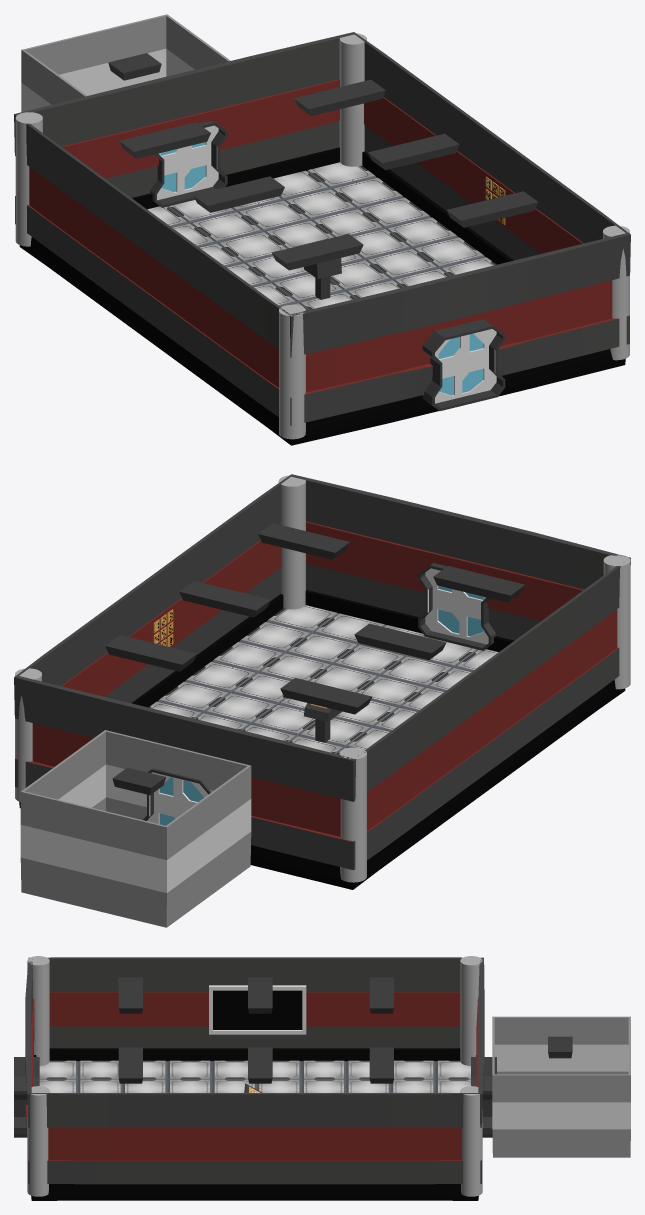
Rendered from Segap 01 30 Puzzle 6.fbx.
The picture shows the model from 3 angles, top to bottom: view 1: azimuth 30°, elevation 25°; view 2: azimuth 150°, elevation 25°; view 3: azimuth 270°, elevation 25°; orthographic projection. The views are drawn at different scales.
Parts seen in each view (by area): view 1: Walls.016, Walls.015, Plane.064, Cylinder.067, Cube.203, Cube.206, Cube.199, Cube.198, Cube.194, Cube.195, Cube.197, Cube.196 (+6 smaller); view 2: Walls.016, Plane.064, Walls.015, Cylinder.067, Cube.199, Cube.197, Cube.198, Cube.194, Cube.196, Cube.195, Cube.206, Cube.203 (+5 smaller); view 3: Walls.016, Plane.064, Walls.015, Cylinder.067, Plane.066, Cube.203, Cube.200, Cube.194, Cube.195, Cube.196, Cube.197, Cube.198 (+2 smaller).
Boxes of the visible parts, bbox=[...] form: Walls.016: bbox=[14, 32, 630, 445]; Walls.015: bbox=[147, 162, 496, 310]; Plane.064: bbox=[21, 14, 230, 112]; Cylinder.067: bbox=[15, 33, 629, 439]; Cube.203: bbox=[422, 319, 505, 410]; Cube.206: bbox=[458, 329, 496, 397]; Cube.199: bbox=[119, 122, 210, 158]; Cube.198: bbox=[193, 176, 284, 212]; Cube.194: bbox=[446, 191, 538, 227]; Cube.195: bbox=[368, 133, 459, 170]; Cube.197: bbox=[272, 234, 363, 270]; Cube.196: bbox=[294, 79, 385, 115]; Walls.016: bbox=[14, 474, 630, 889]; Plane.064: bbox=[20, 730, 251, 927]; Walls.015: bbox=[148, 605, 498, 754]; Cylinder.067: bbox=[15, 475, 630, 882]; Cube.199: bbox=[280, 678, 372, 714]; Cube.197: bbox=[433, 566, 524, 602]; Cube.198: bbox=[354, 623, 446, 660]; Cube.194: bbox=[258, 523, 349, 559]; Cube.196: bbox=[105, 635, 196, 671]; Cube.195: bbox=[179, 581, 270, 617]; Cube.206: bbox=[425, 568, 462, 638]; Cube.203: bbox=[418, 563, 495, 650]; Walls.016: bbox=[25, 957, 484, 1200]; Plane.064: bbox=[492, 1016, 630, 1157]; Walls.015: bbox=[39, 1060, 470, 1092]; Cylinder.067: bbox=[27, 956, 482, 1196]; Plane.066: bbox=[209, 985, 306, 1034]; Cube.203: bbox=[14, 1057, 39, 1137]; Cube.200: bbox=[471, 1057, 496, 1137]; Cube.194: bbox=[118, 1047, 142, 1083]; Cube.195: bbox=[248, 1047, 272, 1083]; Cube.196: bbox=[369, 1047, 393, 1083]; Cube.197: bbox=[118, 977, 142, 1013]; Cube.198: bbox=[248, 977, 272, 1013].
Size of the model in its own units: 1478 by 604 by 2761.
19 materials, 1 textured.
